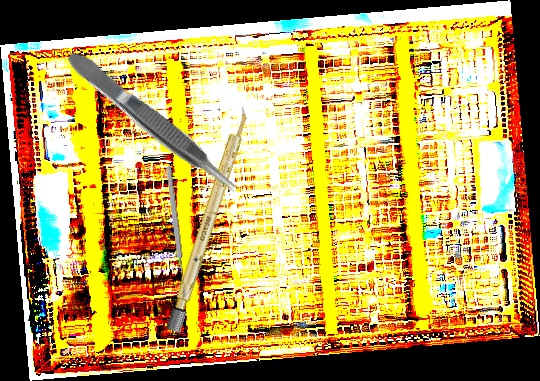Scalpel Handle: (165, 105, 253, 334)
Surgical Spoon: (165, 166, 188, 297)
Tissue Forceps: (63, 43, 244, 201)
